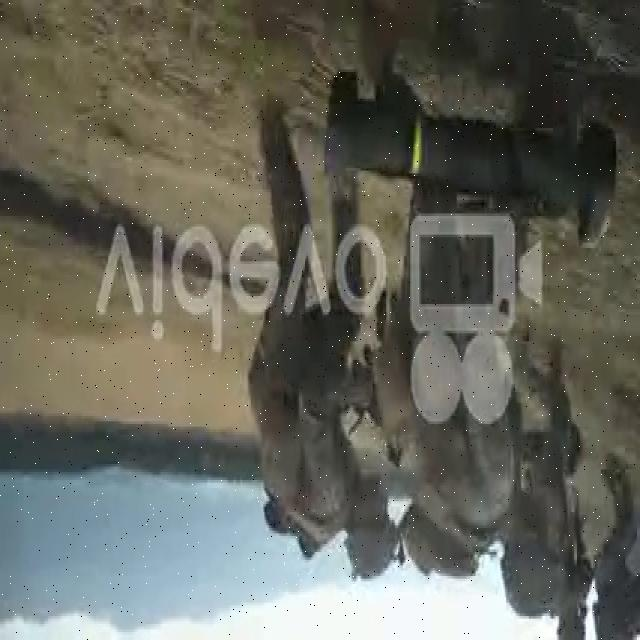bazooka: (317, 62, 621, 260)
